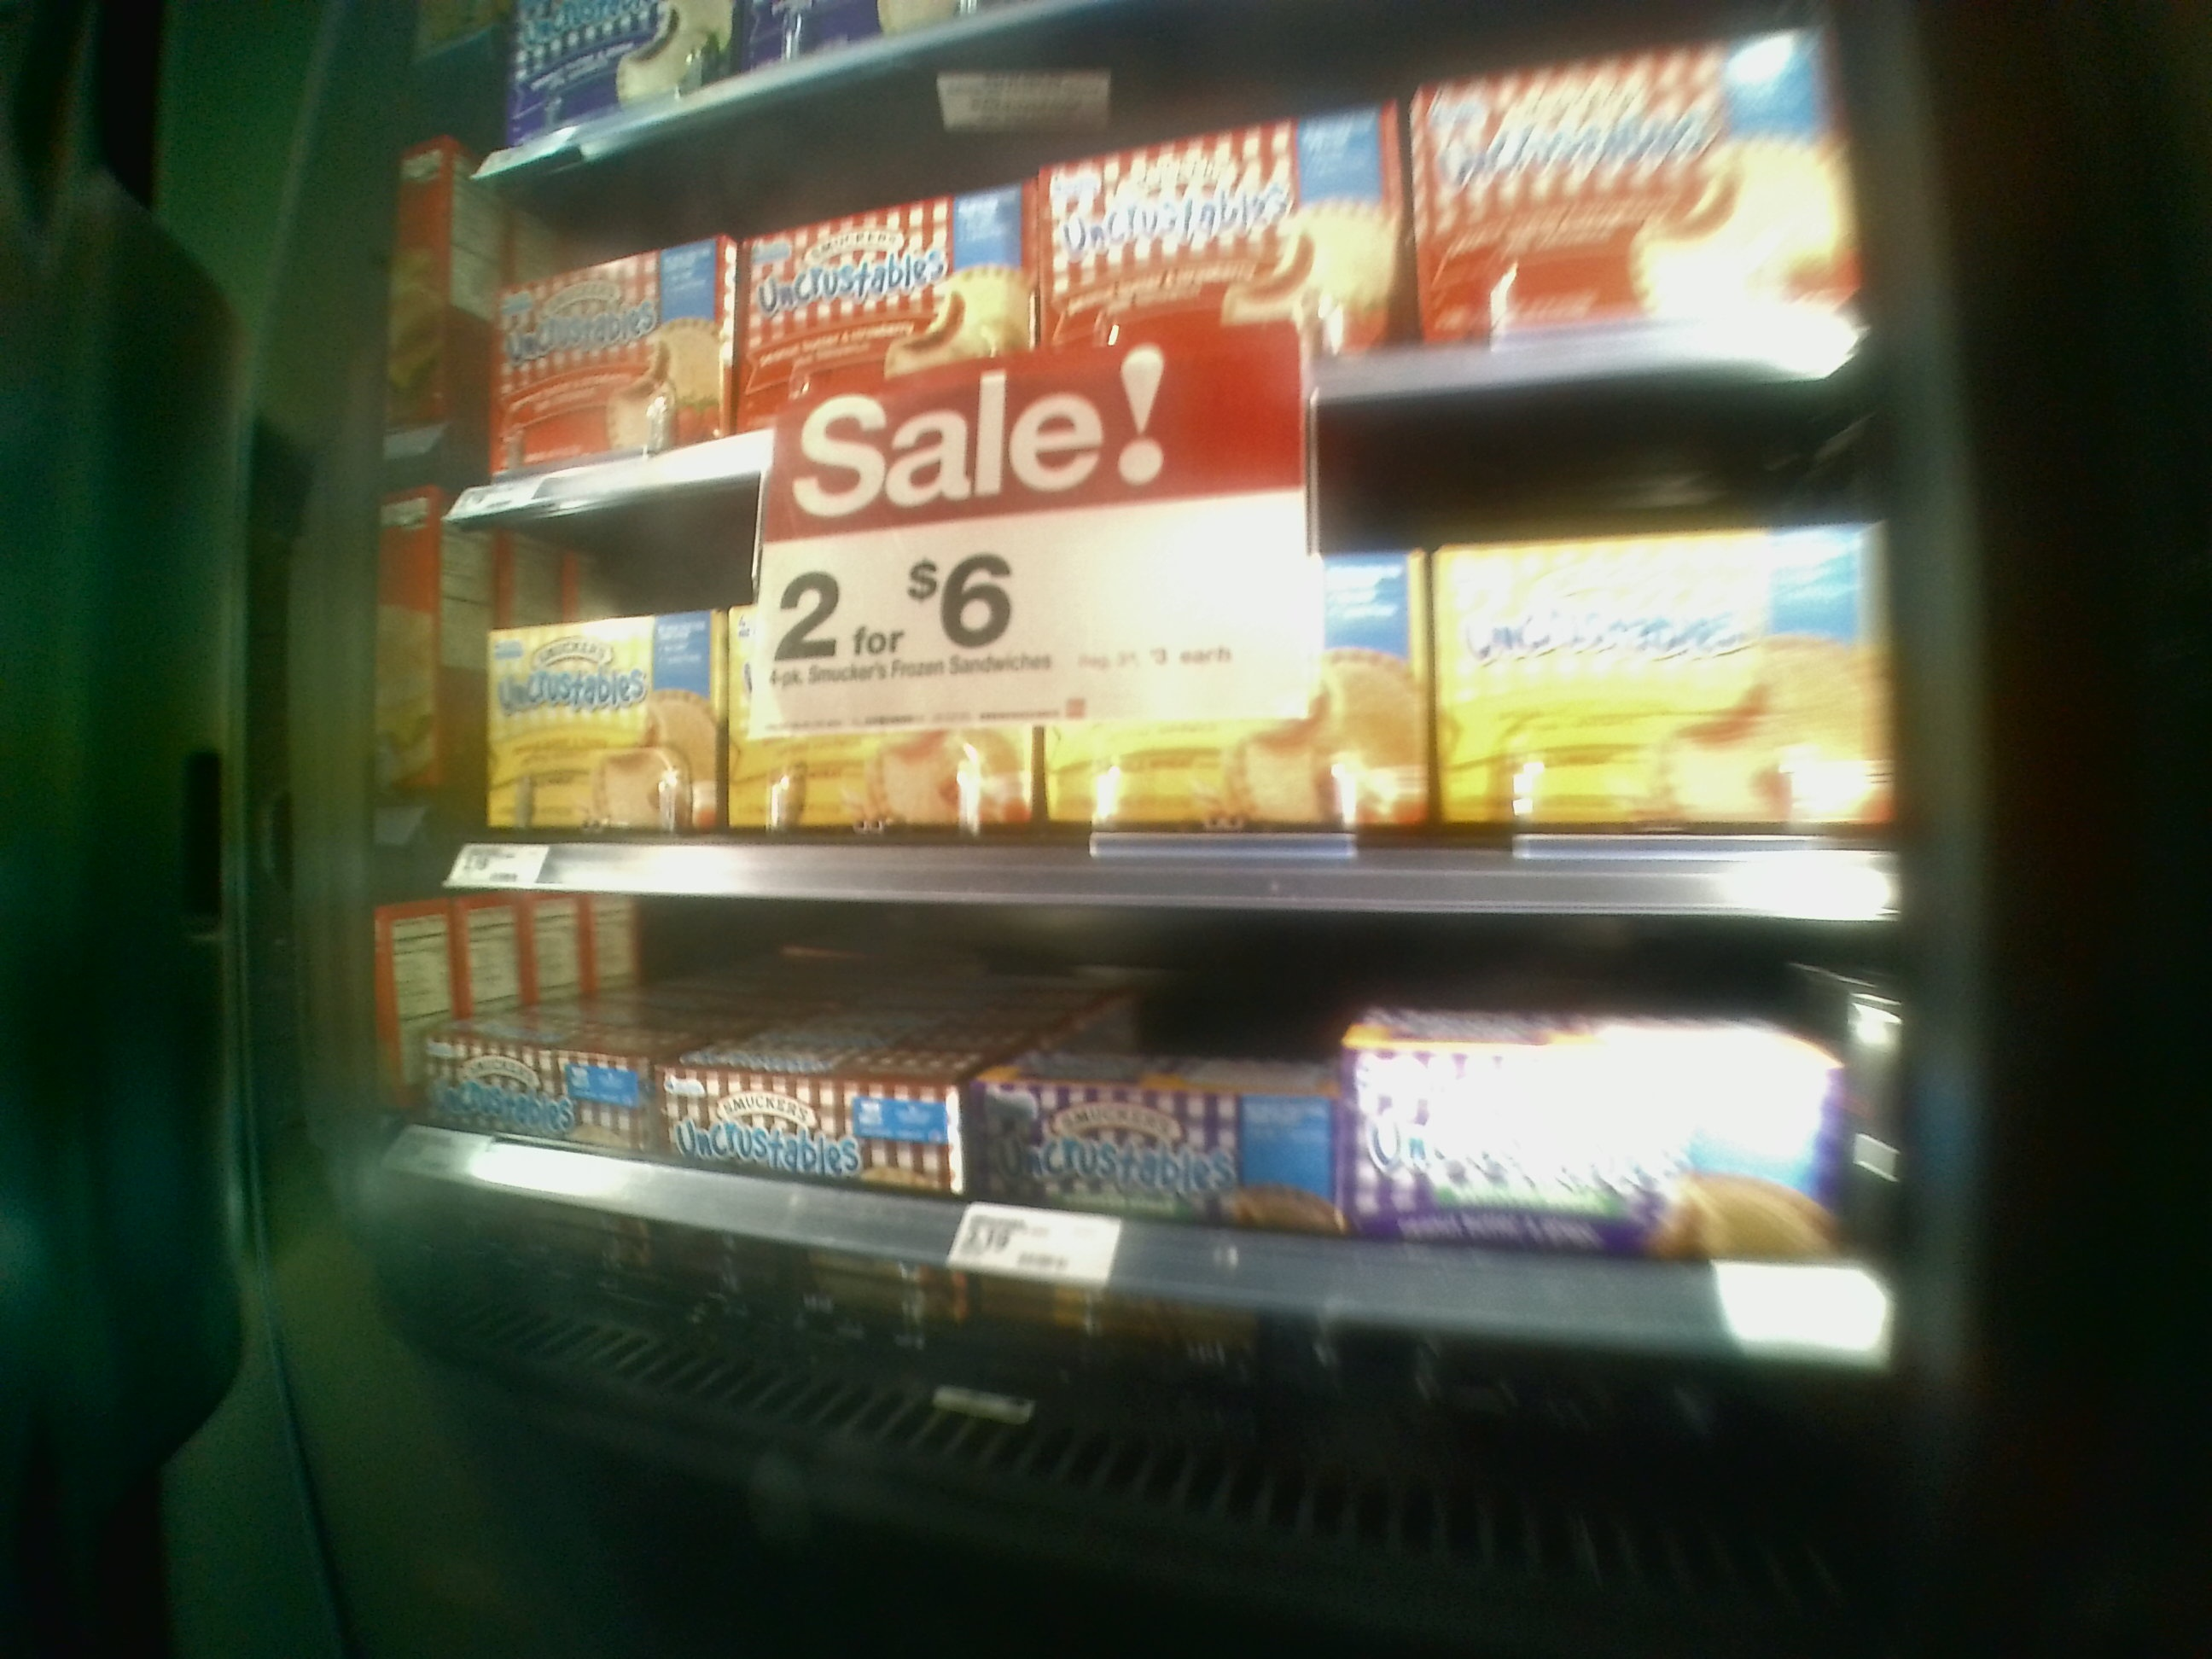shelf: (381, 924, 1907, 1459), (462, 498, 1897, 936), (477, 186, 1860, 481)
